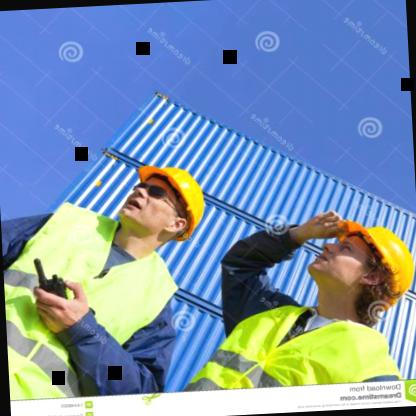helmet: (304, 218, 416, 312), (117, 162, 210, 244)
